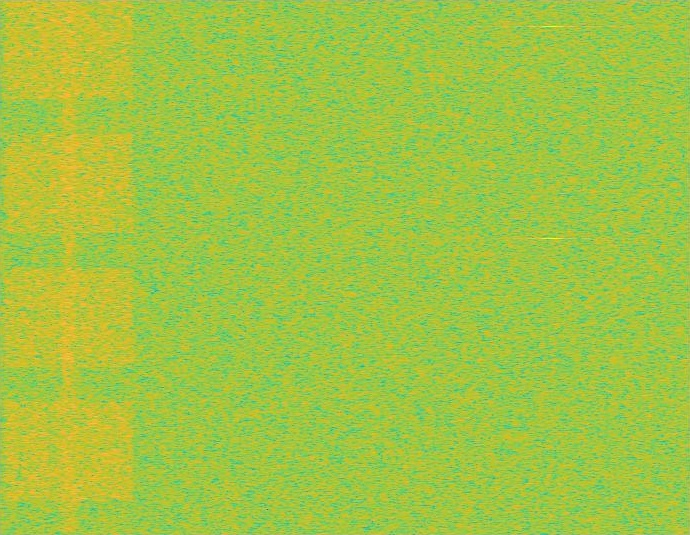5G: (0, 0, 138, 534)
DSSS: (60, 0, 78, 534)
Radar: (545, 0, 559, 534)
